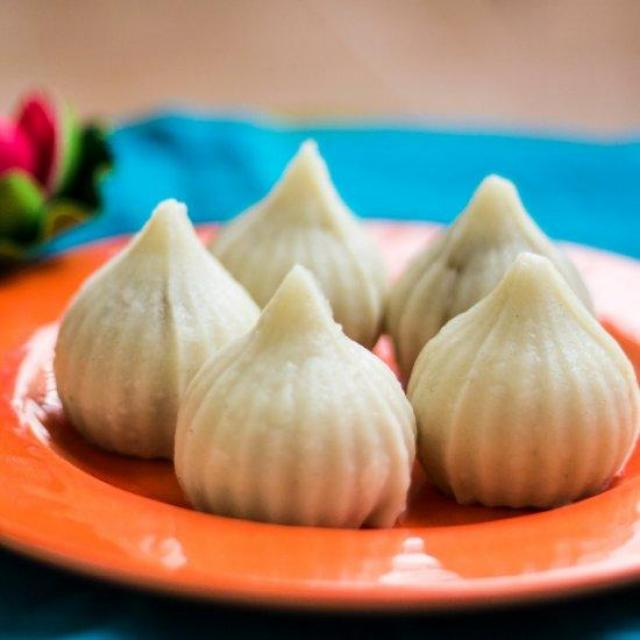modak: (119, 202, 581, 477)
